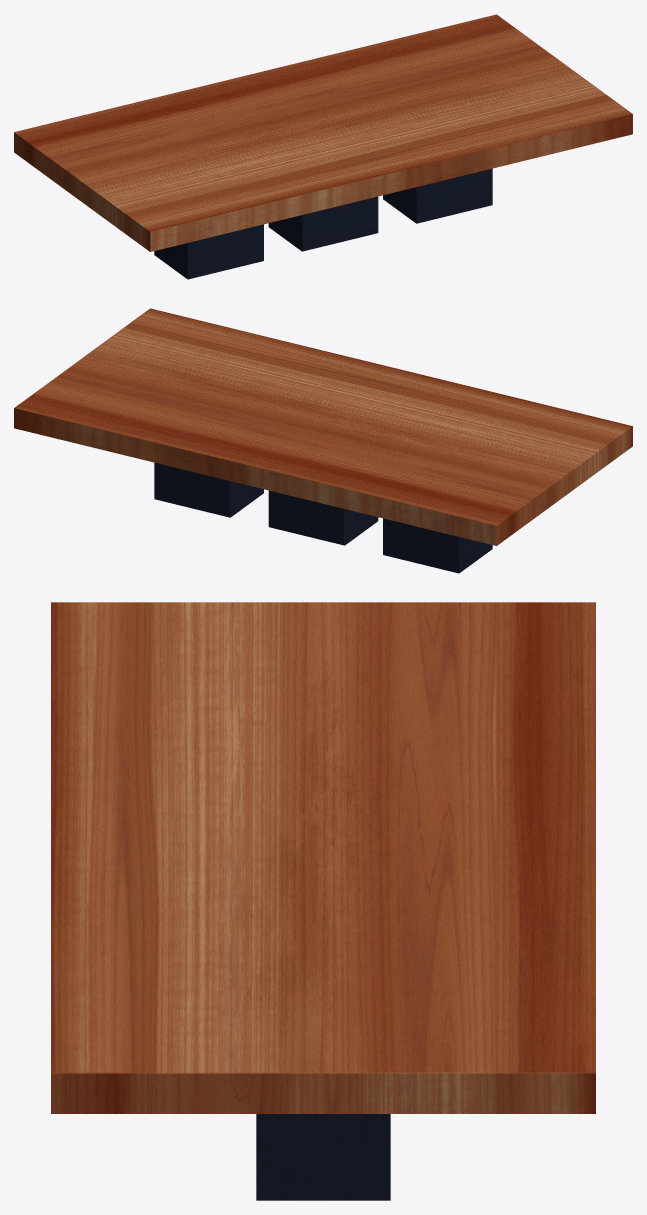
The model's file is meeting_table.glb.
3 renders of one model, top to bottom at view 1: azimuth 30°, elevation 25°; view 2: azimuth 150°, elevation 25°; view 3: azimuth 270°, elevation 25°, orthographic. The views are drawn at different scales.
Visible parts, largest first — view 1: pCube1; view 2: pCube1; view 3: pCube1.
Part boxes in pixels (x1,y1,x2,y2): pCube1: (14, 14, 632, 279); pCube1: (14, 308, 632, 573); pCube1: (51, 602, 595, 1200).
Bounding box in the file's own units: 27.78 × 5.88 × 13.58.
1 material, 1 textured.
